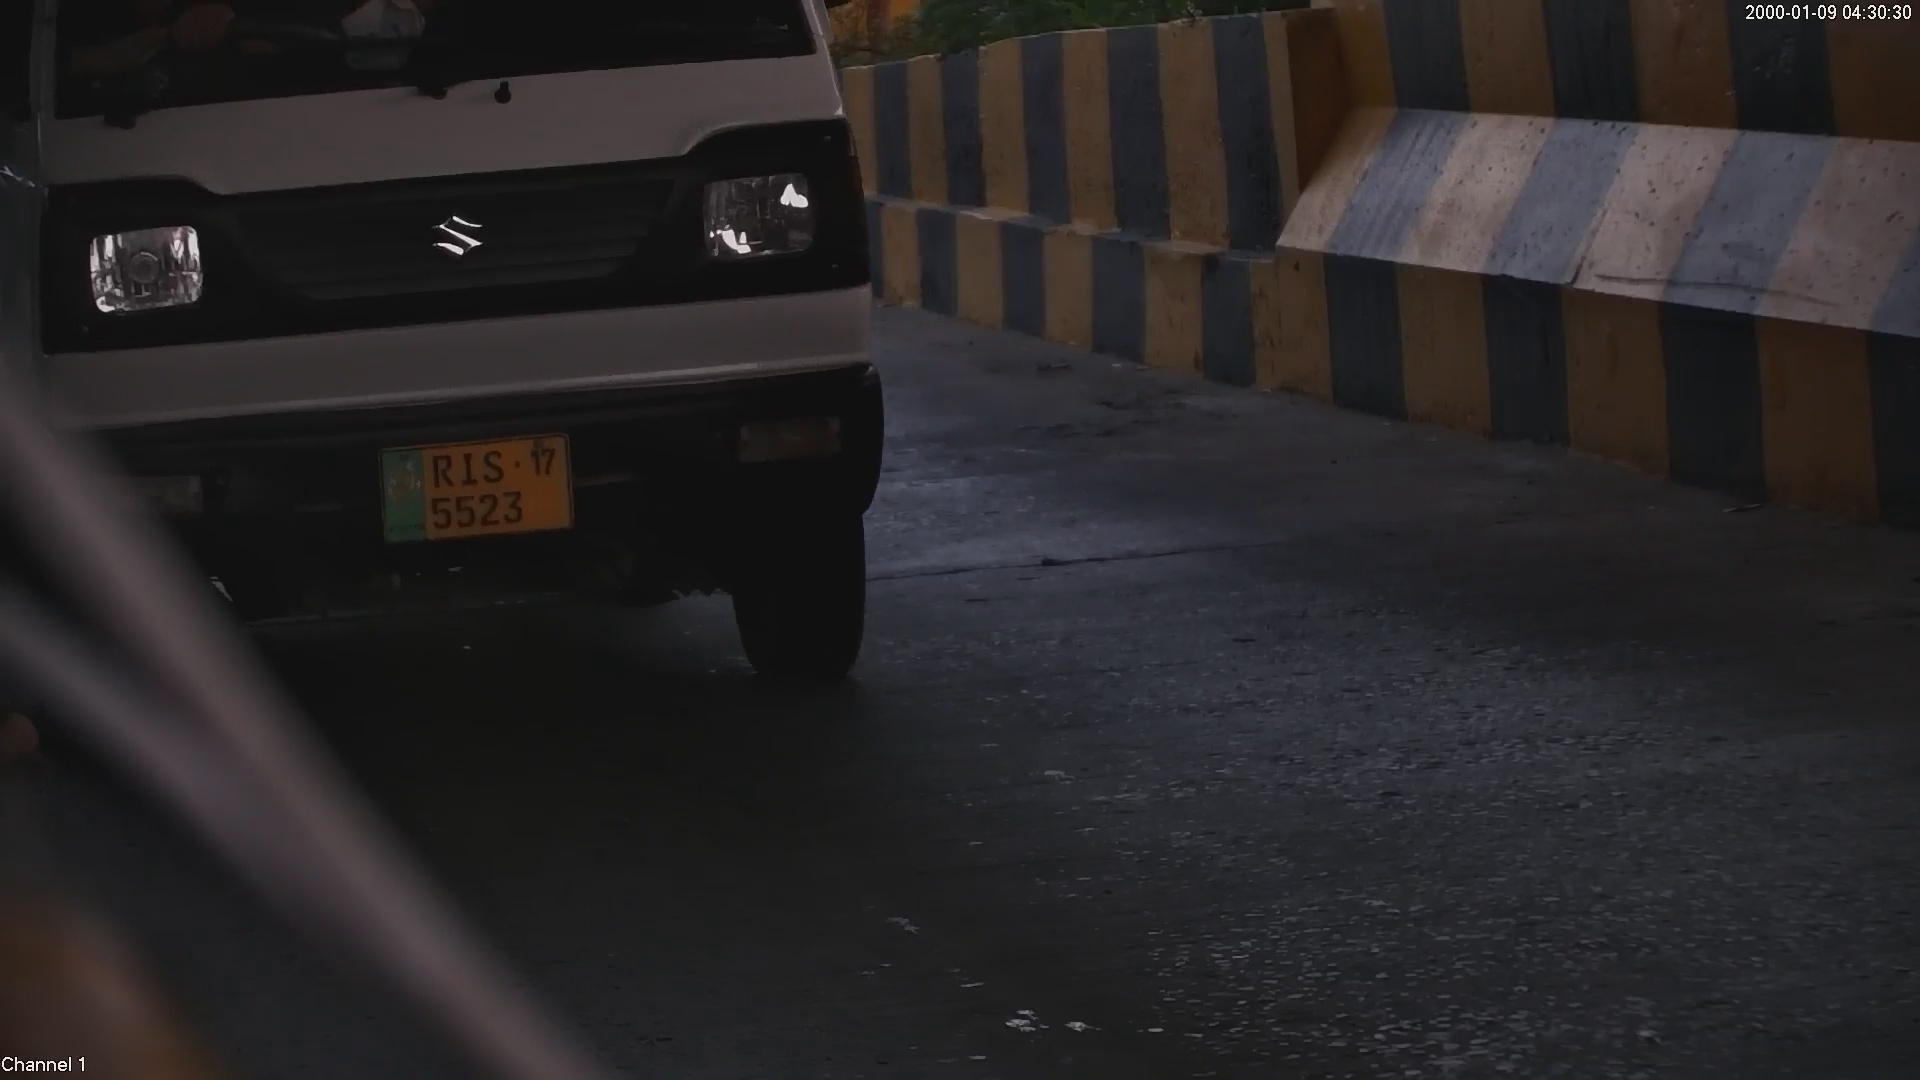Number_Plate: (358, 416, 584, 549)
Undefined: (700, 159, 828, 266), (80, 218, 219, 314), (426, 212, 482, 255)
